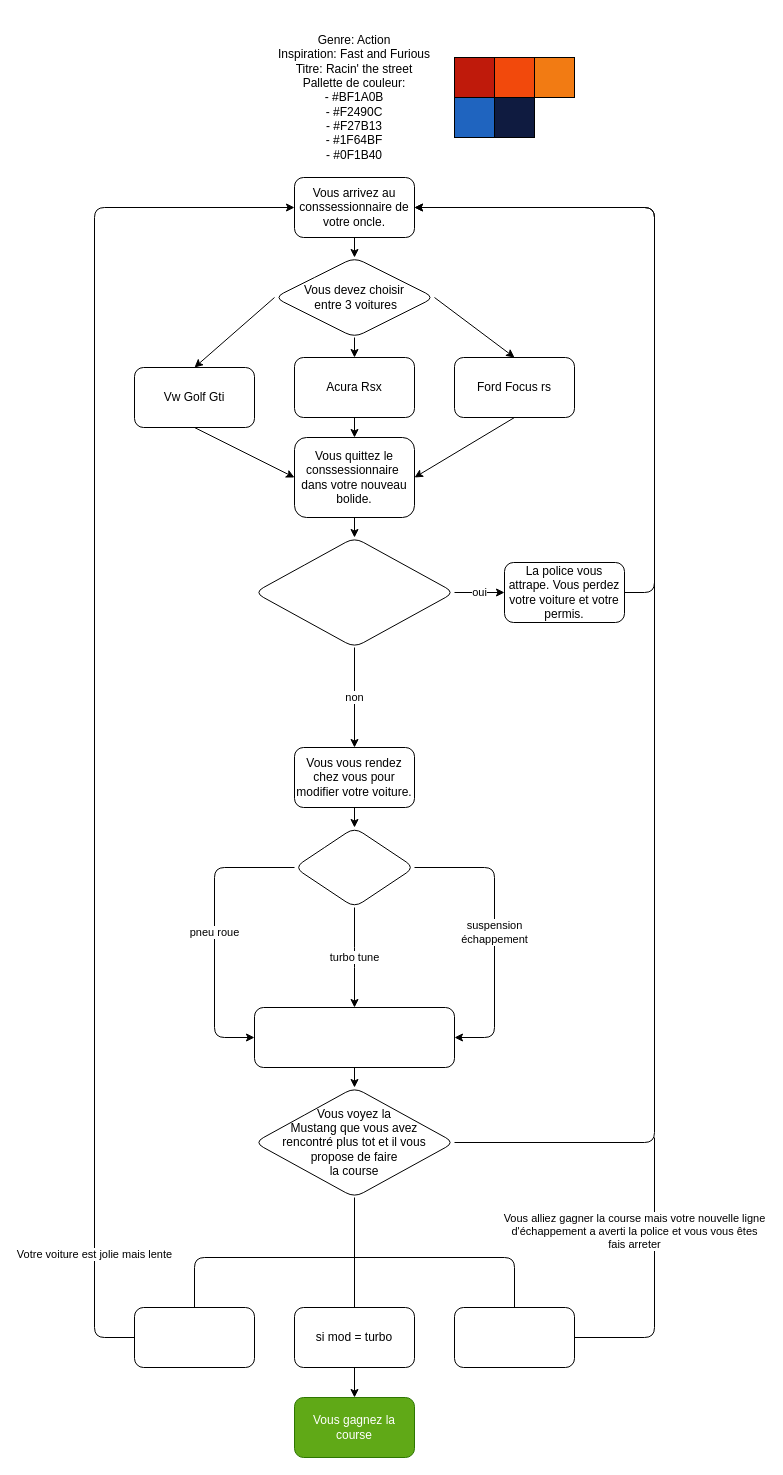
The diagram is 783 pixels wide and 1475 high, and some of its shapes have lost their labels. Here are the shapes that lost their labels. From the top down, the box of each, then its label:
(254, 536, 454, 648): Vous arrivez au feu rouge et une Ford Mustang veut faire la course avec vous
(294, 826, 414, 908): Quelle modification voulez vous faire.
(254, 1006, 454, 1068): Vous allez dans un meet pour rencontrer d'autres passsionnés comme vous.
(134, 1306, 254, 1368): Si mod = roues et pneu
(454, 1306, 574, 1368): si mod = suspension et ligne
